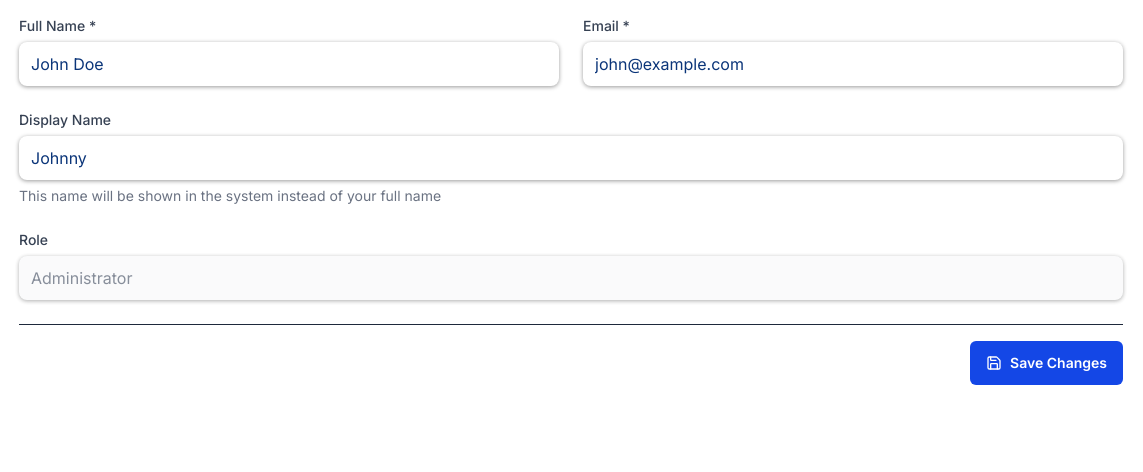
PersonalDataSettings › successfully updates profile for admin users
Replace the text in the field showing "John Doe" below "Full Name *" with "John Updated" at (289, 64), box [19,42,559,86]
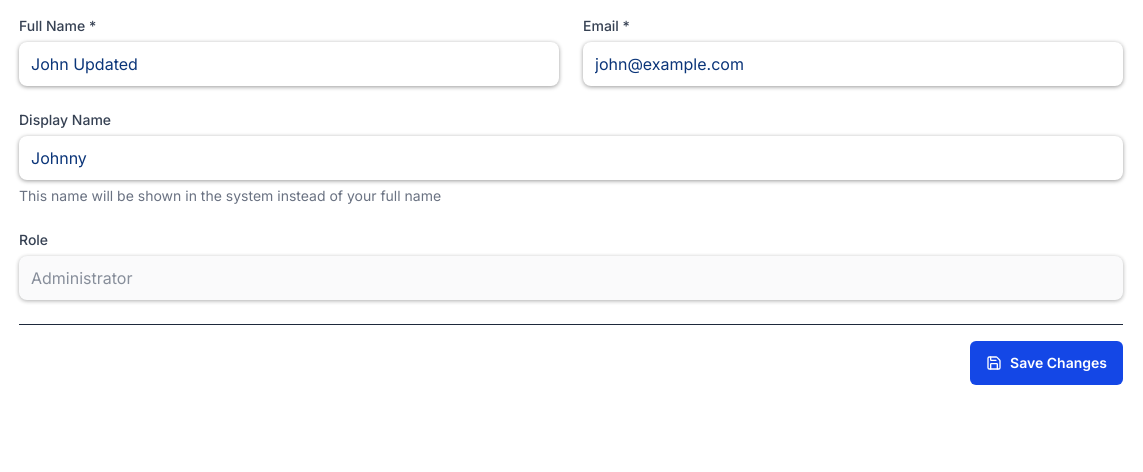
Click the button "Save Changes" at (1047, 363), box [970,341,1123,385]
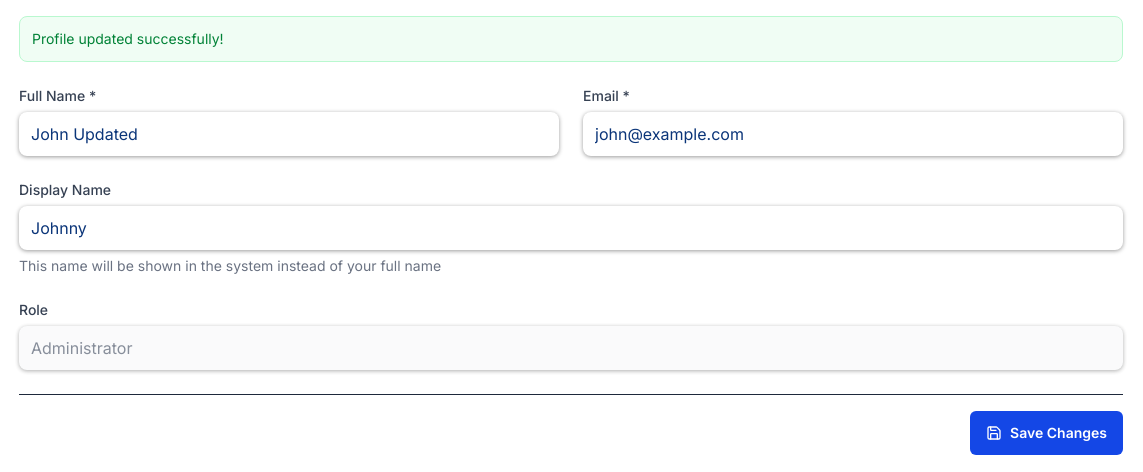
Expected: the text "Profile updated successfully!" is shown, [19,16,1123,62]
